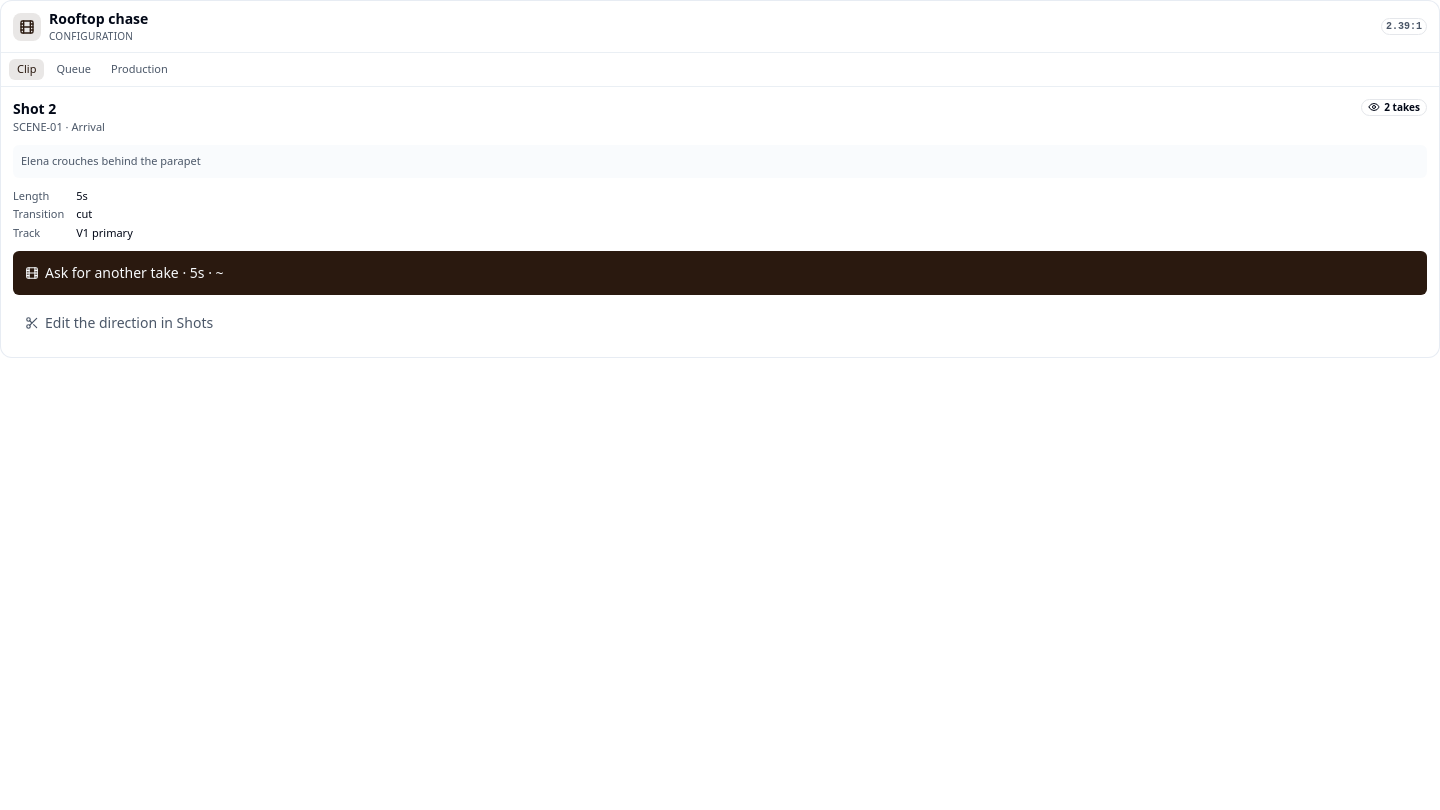
MediaConfigurationRail › inspects the clip the studio has on screen, and prices the take it can ask for
Expected: the element with test id "media-configuration-rail" is shown, [0, 0, 1439, 358]
Expected: the text "Shot 2" is shown, [13, 98, 56, 118]
# And the production tools are still one click away.
Click the tab with test id "media-rail-tab-production": (139, 69) [103, 59, 176, 80]
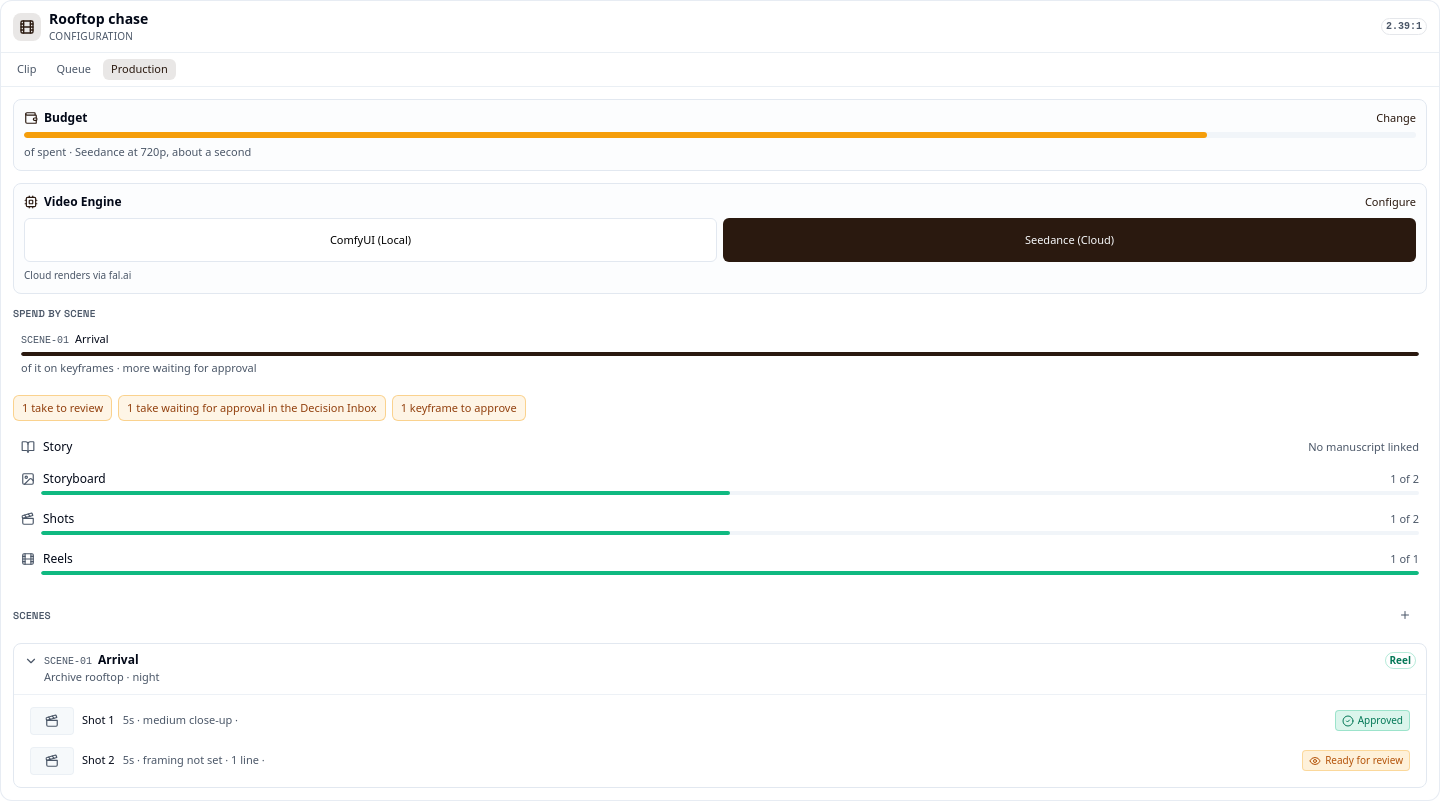
Expected: the element with test id "clip-inspector" is gone
